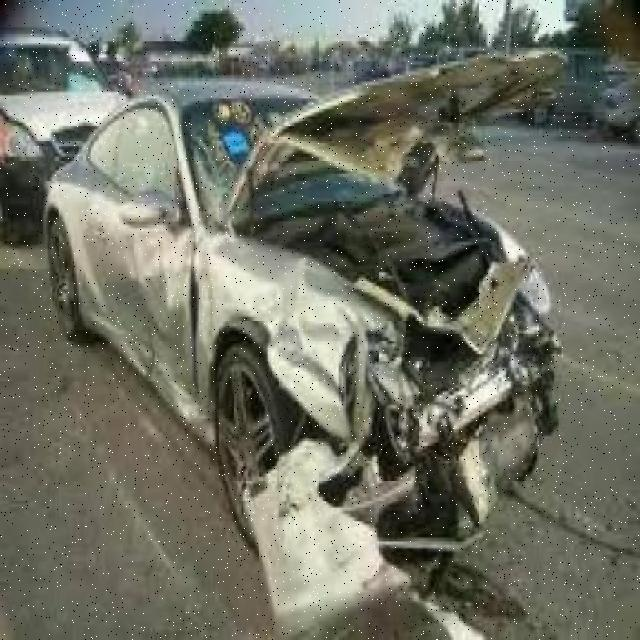damage: (74, 150, 570, 637)
